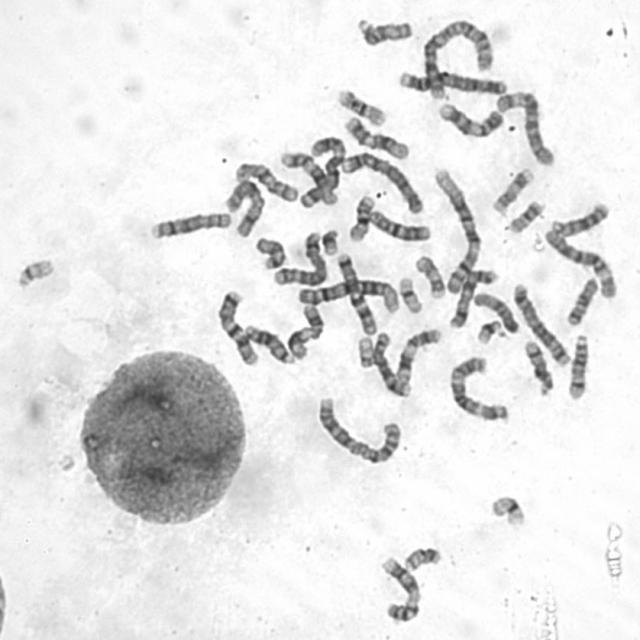A1: (430, 165, 483, 293), (295, 275, 402, 315)
A2: (313, 392, 404, 466), (418, 15, 495, 102)
A3: (445, 352, 512, 424), (297, 132, 348, 209)
B4: (337, 148, 427, 216), (394, 65, 509, 96)
B5: (509, 278, 572, 369), (270, 228, 328, 288)
C10: (232, 158, 300, 205), (366, 206, 433, 244)
C11: (392, 324, 443, 386), (284, 300, 325, 362)
C12: (277, 147, 340, 208), (340, 112, 411, 161)
C6: (540, 224, 619, 300), (492, 87, 557, 168)
C7: (331, 248, 379, 336), (213, 286, 261, 367)
C8: (370, 328, 413, 399), (146, 208, 234, 241)
C9: (377, 553, 423, 624), (434, 99, 505, 140)
D13: (241, 319, 297, 366), (548, 198, 611, 239)
D14: (520, 337, 555, 398), (564, 330, 591, 401)
D15: (470, 288, 521, 336), (354, 13, 414, 48)
E16: (334, 85, 388, 128), (344, 191, 376, 244)
E17: (489, 164, 535, 217), (412, 252, 448, 300)
E18: (563, 274, 600, 328), (252, 232, 287, 270)
F19: (486, 491, 527, 529), (396, 273, 424, 315)
F20: (505, 196, 545, 235), (401, 543, 443, 573)
G21: (474, 316, 506, 345), (318, 224, 340, 257)
G22: (13, 254, 56, 290), (354, 332, 376, 369)
X: (446, 266, 501, 330), (220, 177, 267, 239)
